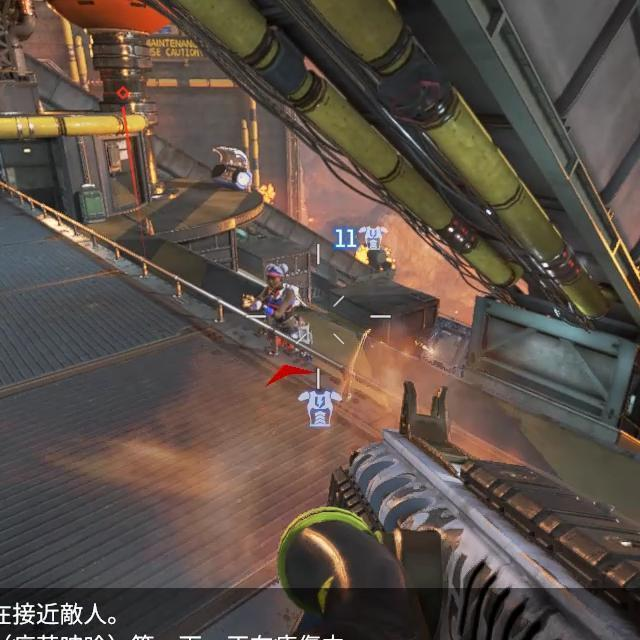avatar: (258, 260, 302, 336)
